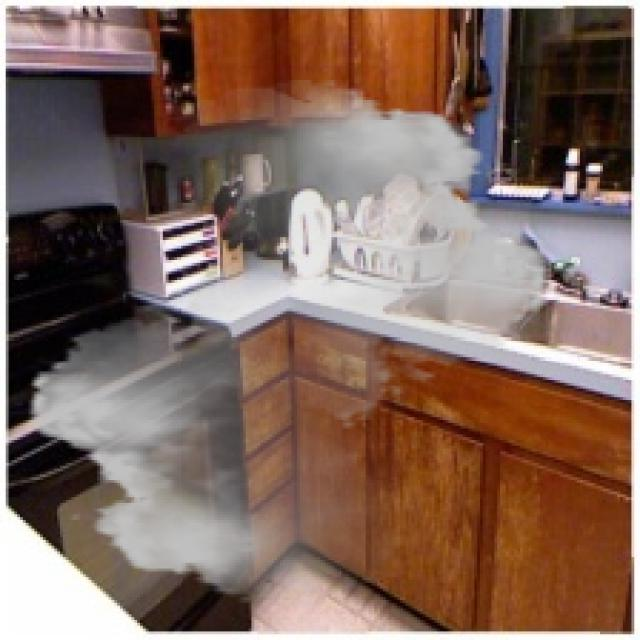smoke: (11, 80, 566, 603)
